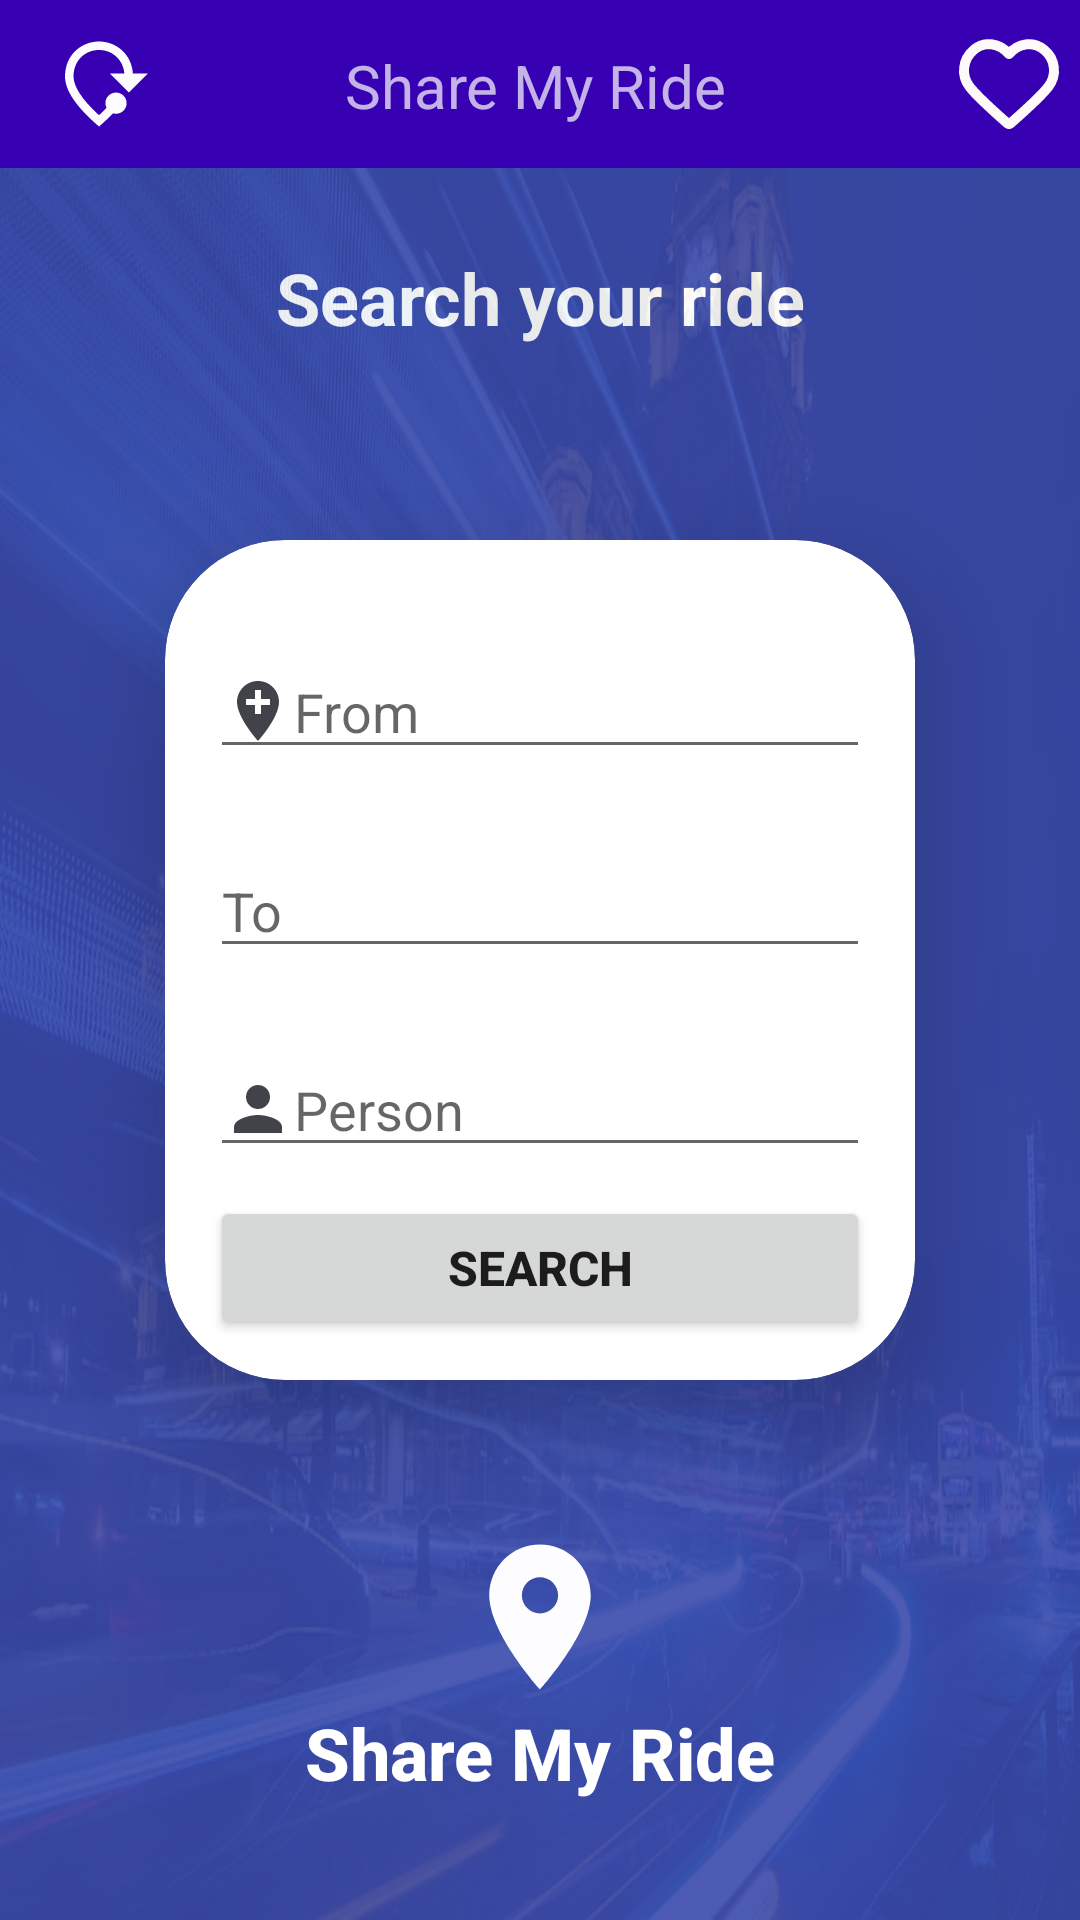

Where to tap for icons on this 1080w x 1920h app screen, as (x,y):
heart toolbar: (1009,84)
